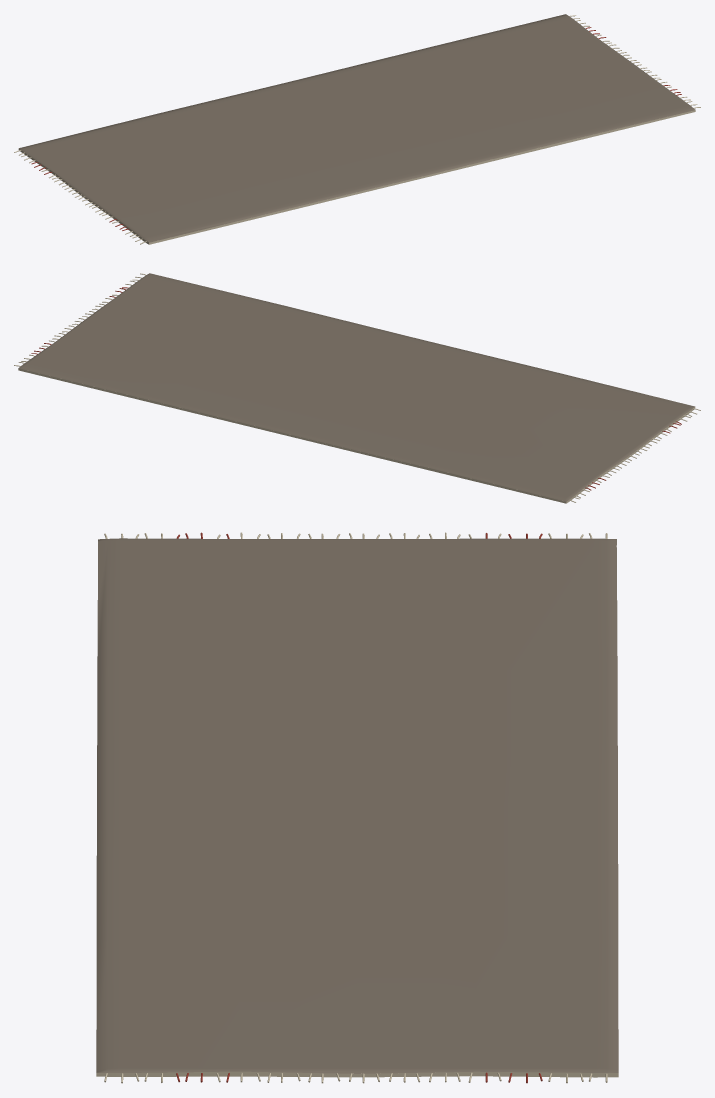
Rendered from kitchen-table-runner-e3c328b76a0d.glb.
3 renders of one model, top to bottom at view 1: azimuth 30°, elevation 25°; view 2: azimuth 150°, elevation 25°; view 3: azimuth 270°, elevation 25°, orthographic. The views are drawn at different scales.
Parts seen in each view (by area): view 1: cover-cloth, paper; view 2: cover-cloth, paper; view 3: cover-cloth, paper.
Part boxes in pixels (x1,y1,x2,y2): cover-cloth: (19, 14, 695, 242); paper: (14, 15, 700, 244); cover-cloth: (18, 273, 694, 501); paper: (14, 273, 700, 503); cover-cloth: (96, 538, 618, 1073); paper: (96, 532, 618, 1083).
Size of the model in its own units: 0.8202 by 0.00405 by 0.33.
